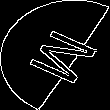M_SE: (13, 22, 97, 88)
